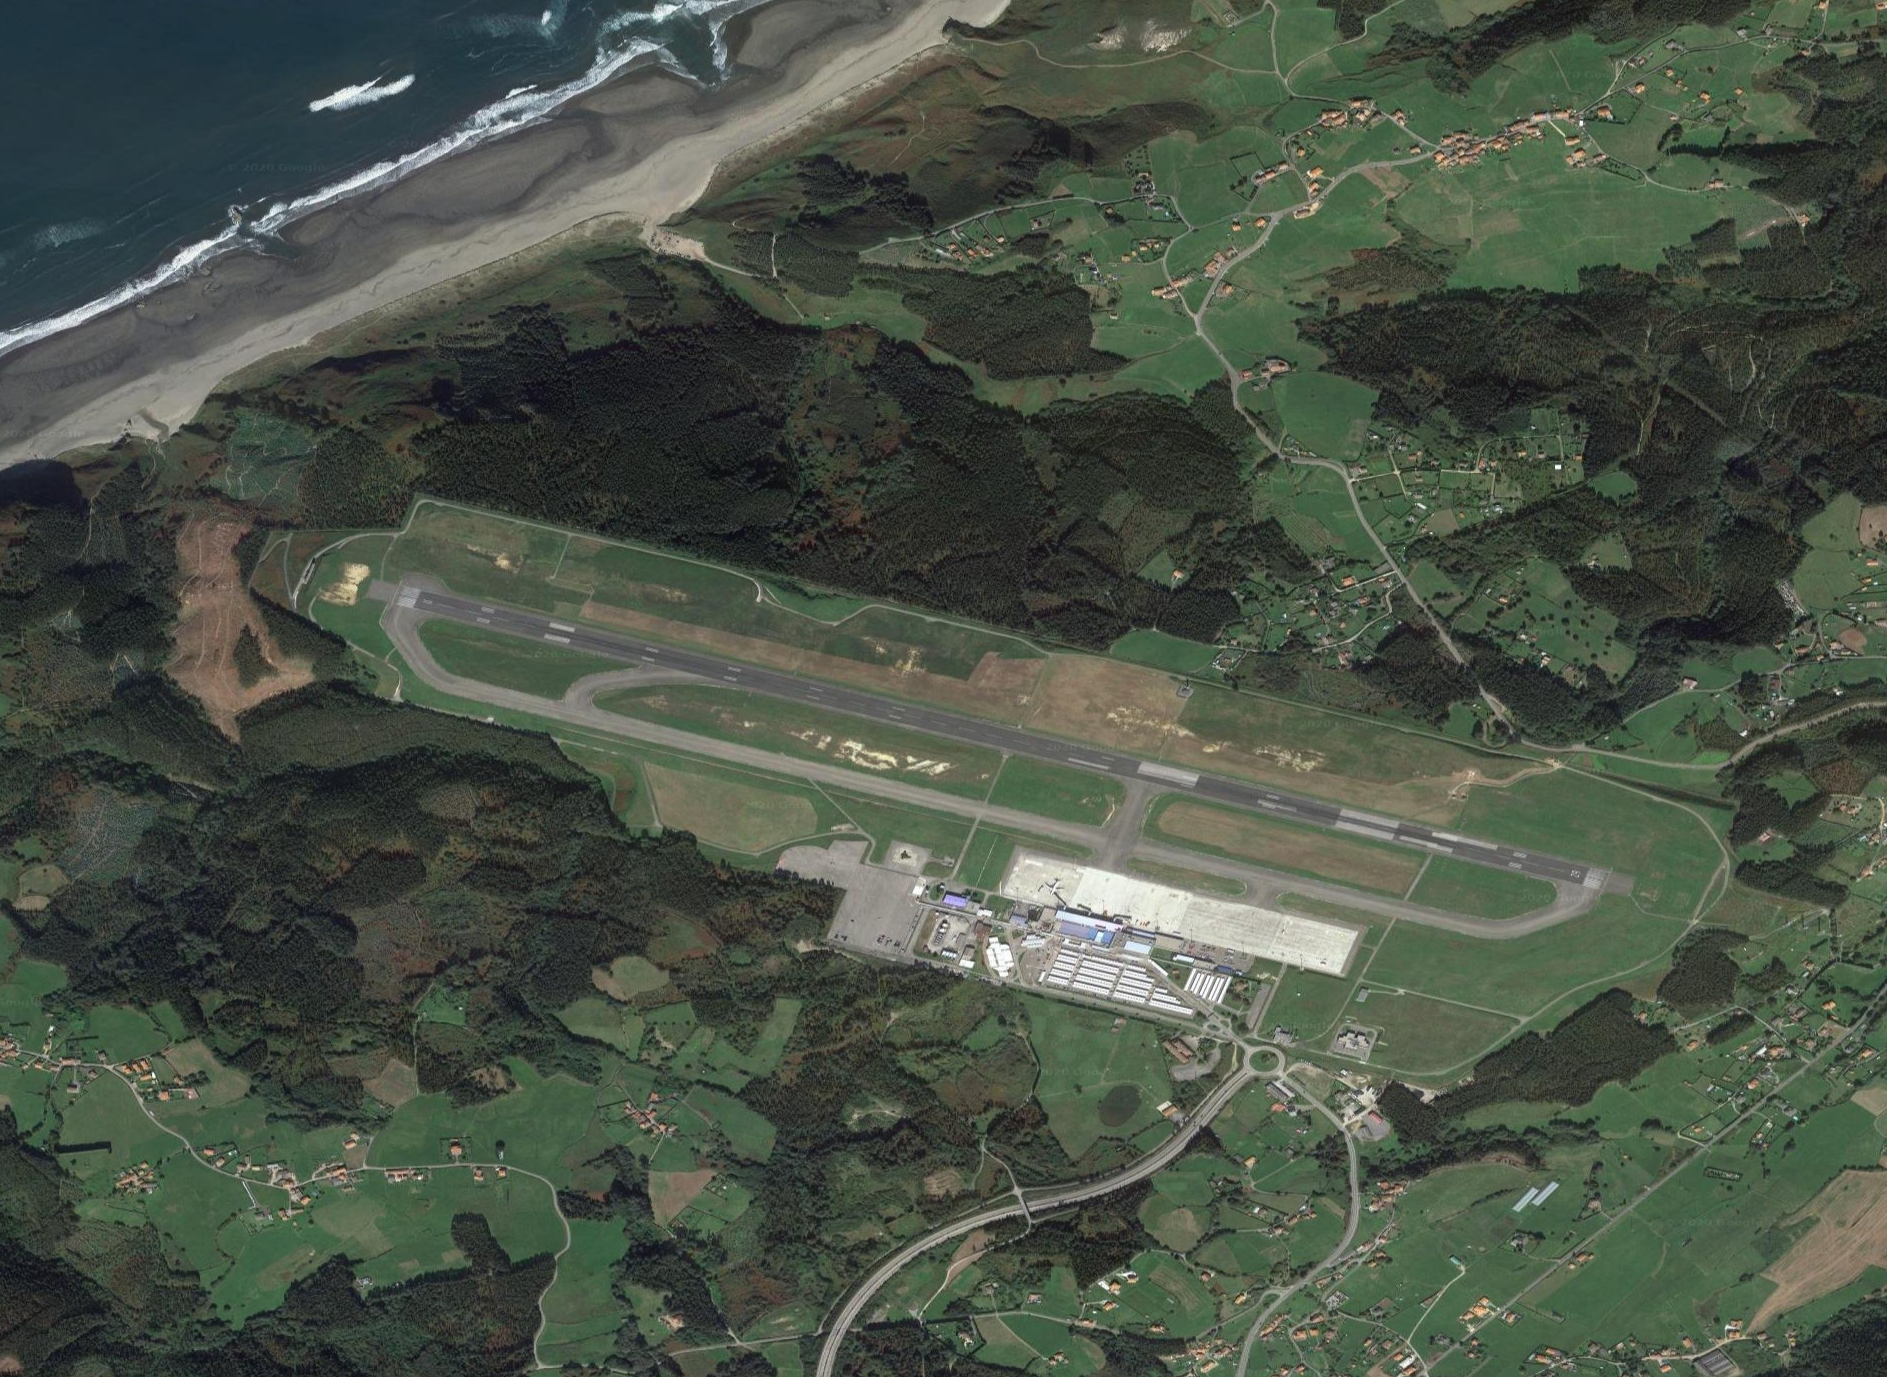airport: (363, 571, 1642, 1042)
motorway: (804, 1244, 924, 1377), (923, 1168, 1086, 1251), (1087, 1100, 1213, 1198), (1229, 1285, 1297, 1377), (1297, 1195, 1363, 1288), (1305, 1103, 1371, 1195)
